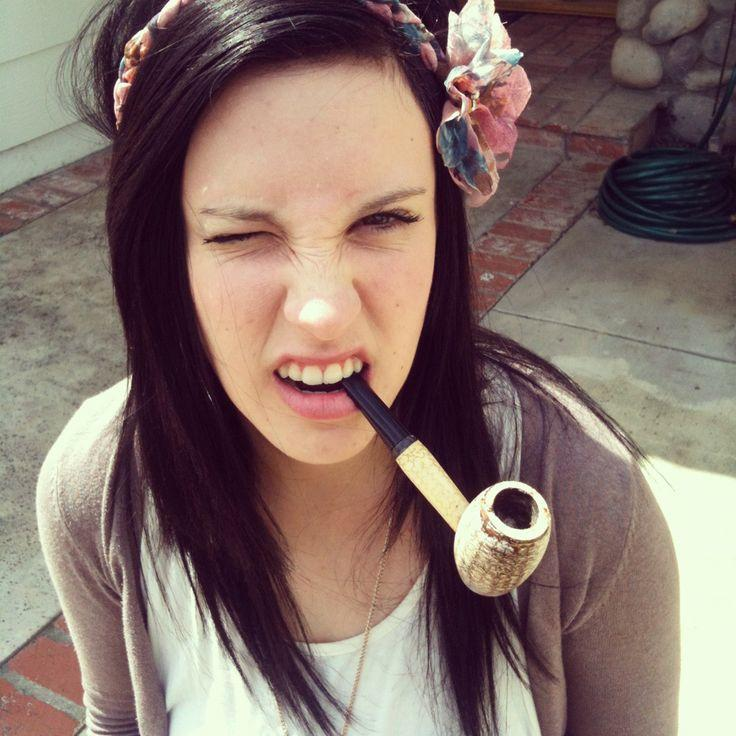trubka: (342, 374, 551, 596)
